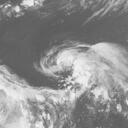cyclone: (54, 46, 110, 97)
